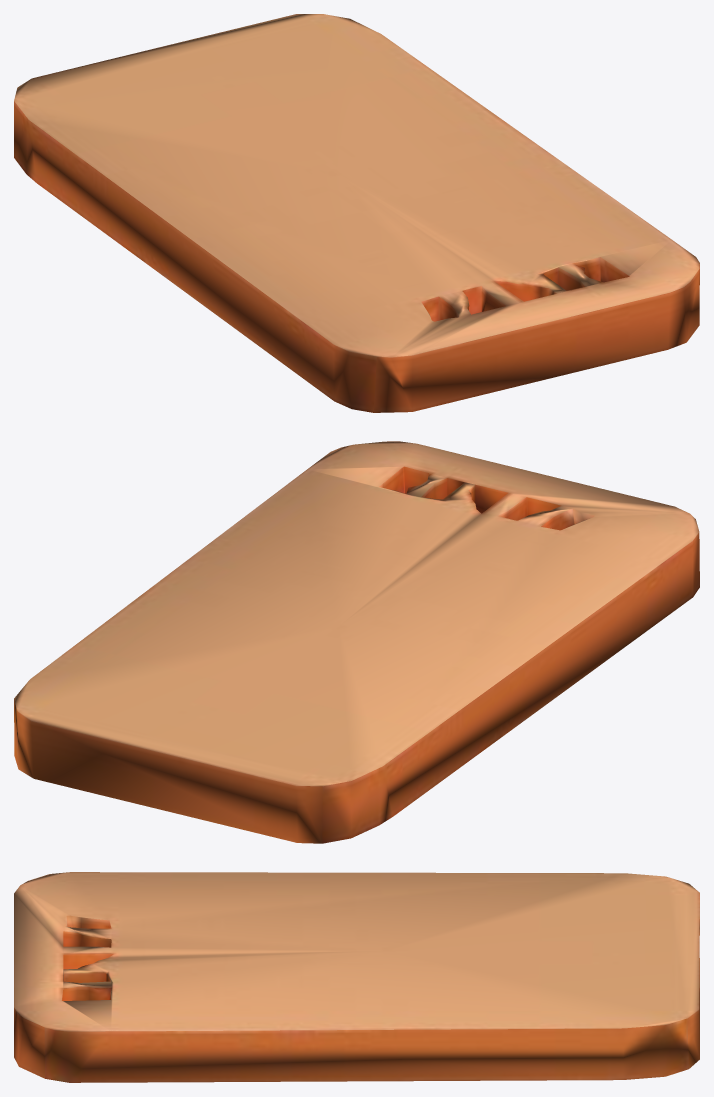
The model's file is keycard.glb.
3 views of the same model, one above another, from view 1: azimuth 30°, elevation 25°; view 2: azimuth 150°, elevation 25°; view 3: azimuth 270°, elevation 25° (orthographic). The views are drawn at different scales.
Parts seen in each view (by area): view 1: keycard; view 2: keycard; view 3: keycard.
Boxes of the visible parts, bbox=[...] form: keycard: bbox=[14, 14, 699, 412]; keycard: bbox=[14, 441, 699, 843]; keycard: bbox=[14, 872, 699, 1082].
Size of the model in its own units: 0.5504 by 0.0835 by 0.9997.
1 material, 1 textured.
